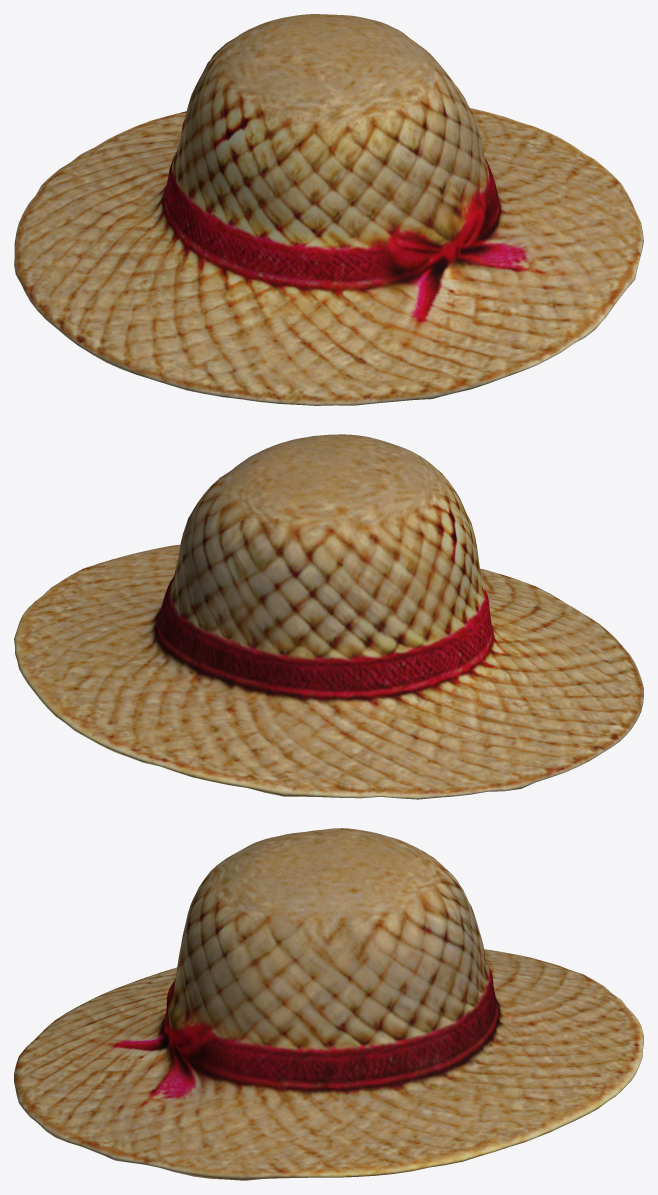
Rendered from f7ffec3eefab_straw_hat_with_a_wi.fbx.
3 renders of one model, top to bottom at view 1: azimuth 30°, elevation 25°; view 2: azimuth 150°, elevation 25°; view 3: azimuth 270°, elevation 25°, orthographic.
Parts seen in each view (by area): view 1: mesh; view 2: mesh; view 3: mesh.
Boxes of the visible parts, left/top/right/bottom form: mesh: left=14, top=14, right=643, bottom=405; mesh: left=14, top=434, right=643, bottom=799; mesh: left=14, top=828, right=643, bottom=1180.
Bounding box in the file's own units: 99.03 × 41.3 × 99.52.
